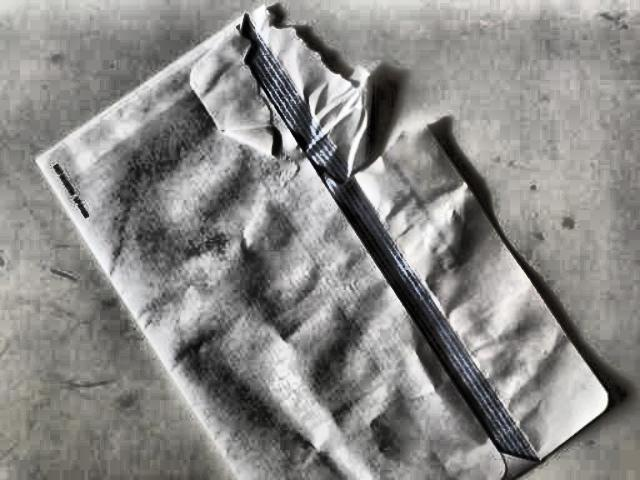Paper: (9, 5, 635, 480)
